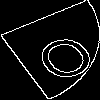O: (25, 24, 100, 85)
